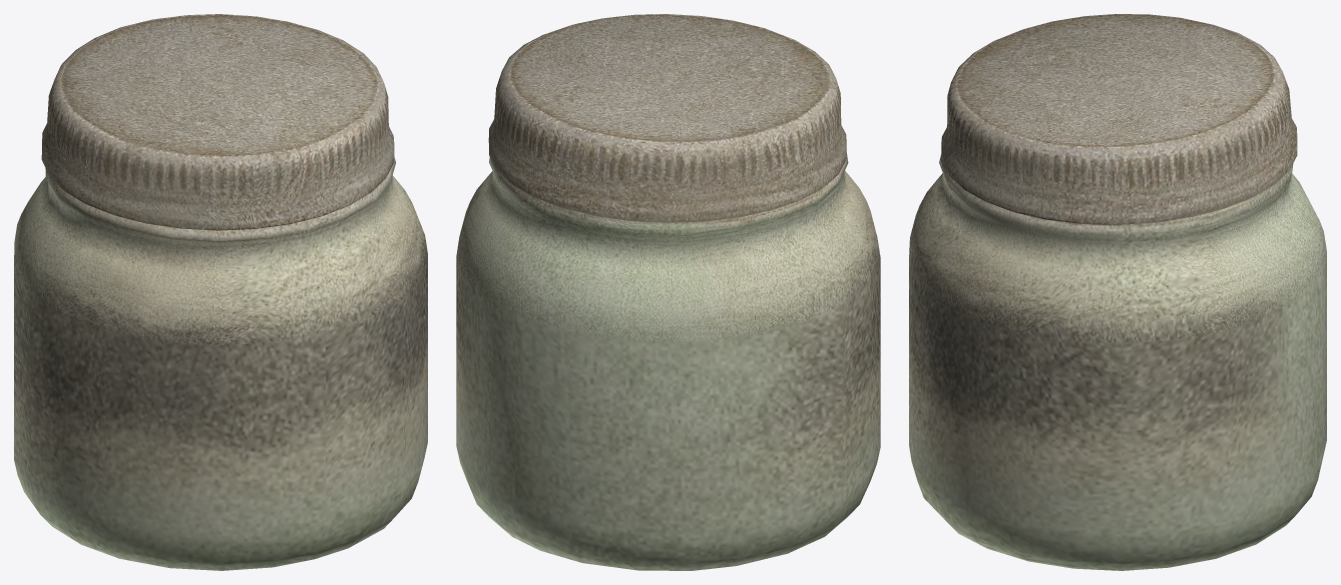
Rendered from FuelFilter.fbx.
3 views of the same model, side by side, from view 1: azimuth 30°, elevation 25°; view 2: azimuth 150°, elevation 25°; view 3: azimuth 270°, elevation 25° (orthographic).
Parts seen in each view (by area): view 1: tripo_node_a151627a; view 2: tripo_node_a151627a; view 3: tripo_node_a151627a.
Boxes of the visible parts, x1,y1,x2,y2 form: tripo_node_a151627a: (14, 14, 427, 570); tripo_node_a151627a: (456, 14, 880, 570); tripo_node_a151627a: (909, 14, 1326, 570).
Bounding box in the file's own units: 0.9058 × 0.9995 × 0.9009.
